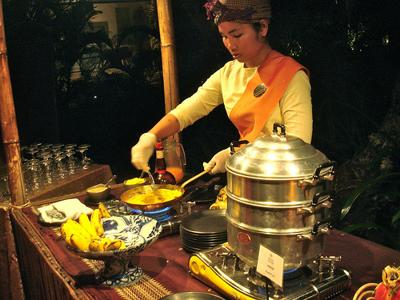person: (133, 1, 314, 200)
